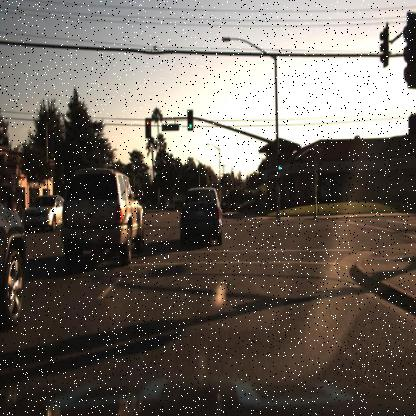car: (56, 155, 152, 280), (0, 143, 45, 331), (167, 172, 231, 261)
trafficLight-Green: (186, 108, 194, 132), (275, 157, 283, 177)
trafficLight-RedLeft: (142, 116, 152, 137)
